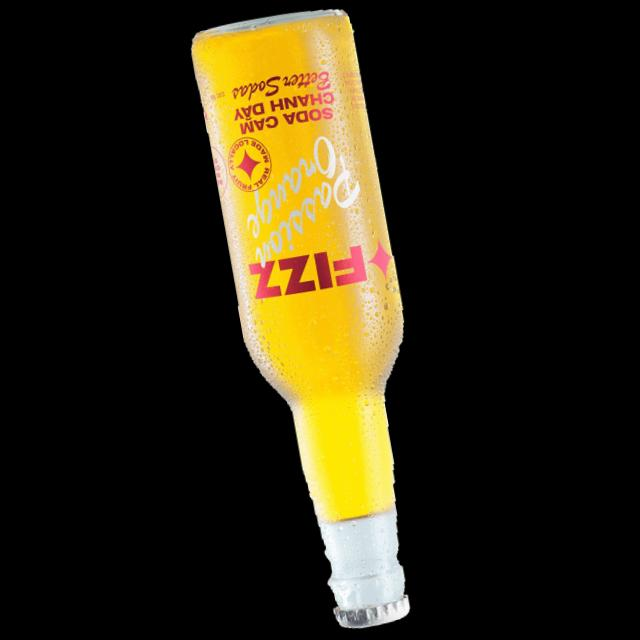glass: (151, 0, 475, 640)
